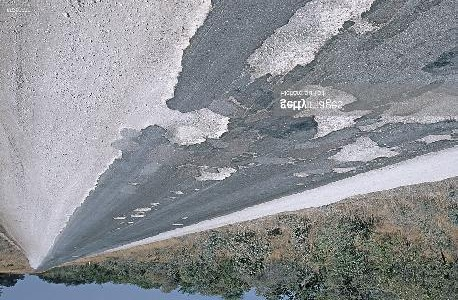pothole: (242, 0, 379, 82), (156, 107, 231, 150), (325, 136, 400, 165), (306, 114, 361, 143), (193, 164, 236, 184), (410, 132, 454, 145), (130, 205, 152, 215), (111, 216, 126, 222)
